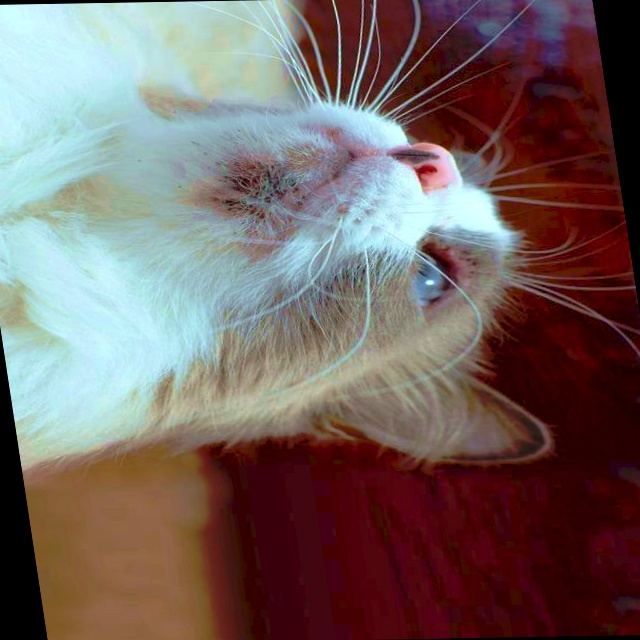acne: (203, 156, 308, 230)
